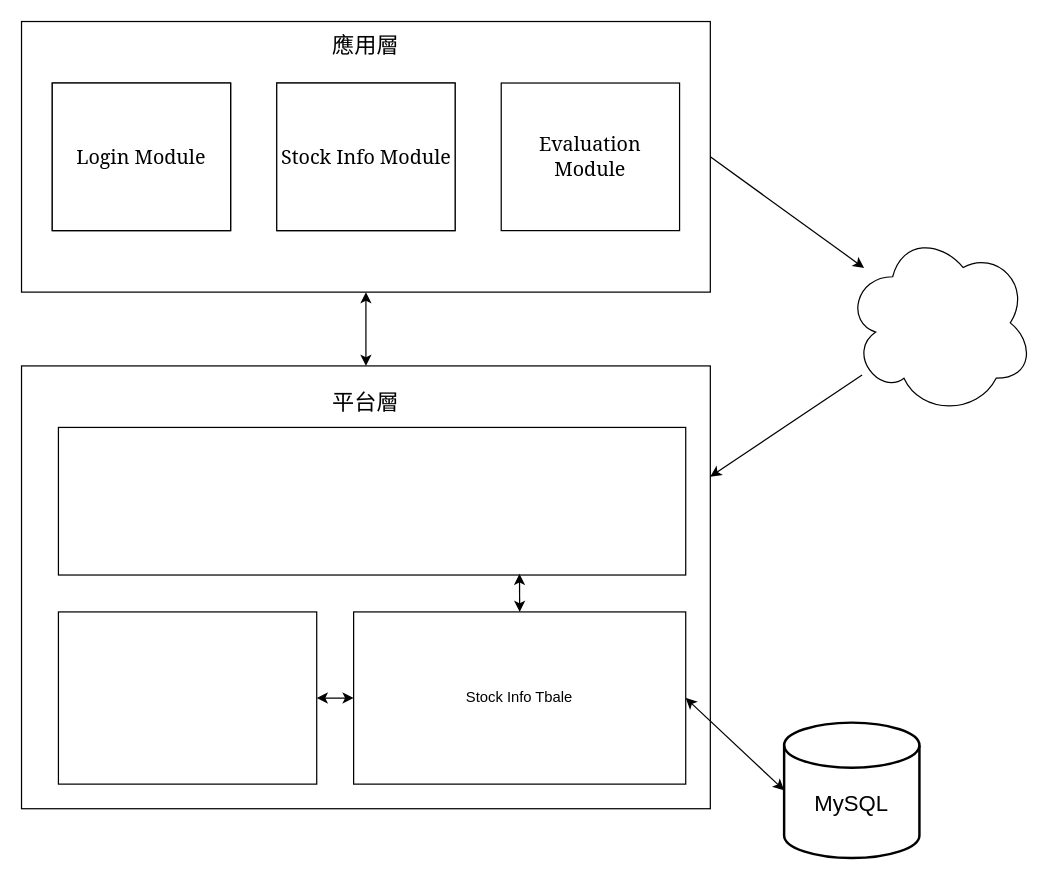
Image size: 1055x881. Some labels were removed from this diagram. The shapes that lost their labels are listed below. From the top down, each one's centre as x and y in pixels, then its label:
(x=939, y=322): google oauth2
(x=371, y=500): WEB API
(x=187, y=697): Crawler
